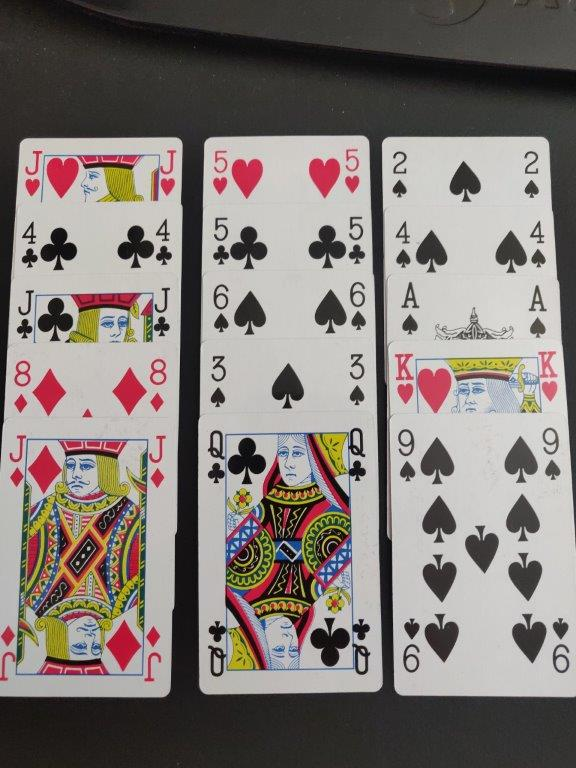2S: (516, 148, 545, 201), (384, 148, 411, 200)
3S: (204, 349, 234, 415), (343, 348, 370, 413)
4C: (17, 216, 41, 272), (153, 215, 175, 272)
4S: (388, 217, 417, 275), (527, 215, 553, 272)
5C: (344, 209, 369, 268), (209, 211, 232, 268)
5H: (206, 145, 232, 202), (342, 142, 363, 196)
6S: (207, 280, 235, 338), (346, 277, 370, 333)
8D: (7, 357, 36, 412), (145, 352, 168, 414)
9S: (537, 422, 565, 487), (393, 426, 419, 486)
AS: (525, 278, 551, 345), (397, 275, 423, 337)
JC: (12, 283, 41, 345), (151, 284, 175, 340)
JD: (5, 429, 30, 491), (145, 430, 169, 491)
JH: (153, 145, 180, 199), (21, 145, 47, 200)
KH: (391, 349, 421, 407), (535, 347, 561, 407)
QC: (201, 425, 230, 491), (344, 421, 371, 490)
